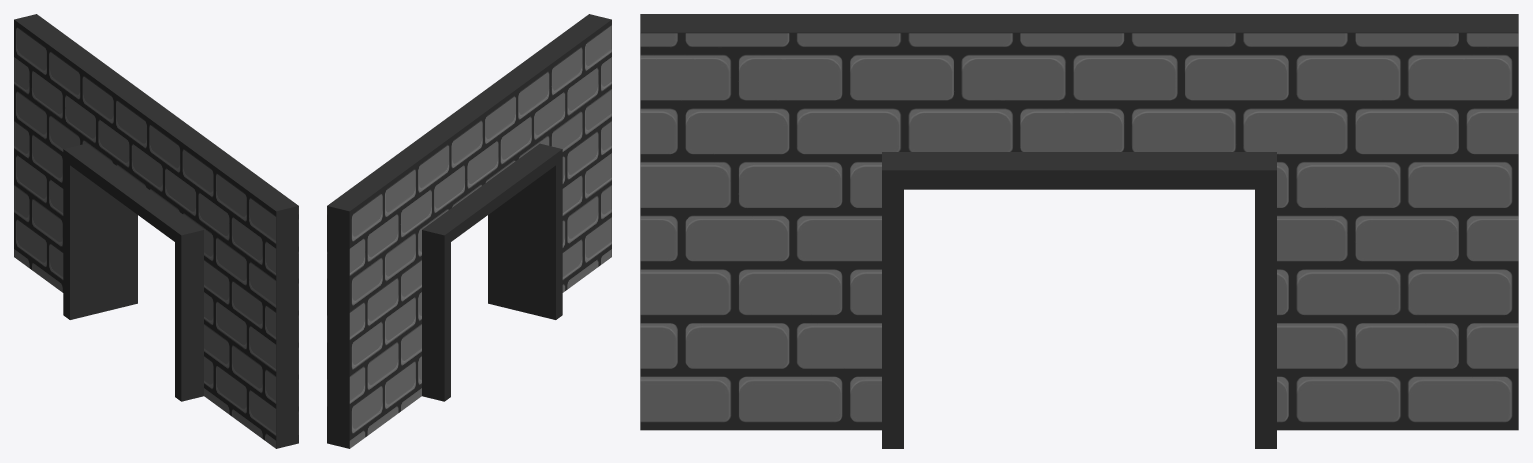
The model's file is WallDoor.fbx.
The picture shows the model from 3 angles, left to right: view 1: azimuth 30°, elevation 25°; view 2: azimuth 150°, elevation 25°; view 3: azimuth 270°, elevation 25°; orthographic projection. The views are drawn at different scales.
Parts seen in each view (by area): view 1: Cube, Cube.002; view 2: Cube, Cube.002; view 3: Cube, Cube.002.
Boxes of the visible parts, left/top/right/bottom form: Cube: left=14, top=14, right=298, bottom=448; Cube.002: left=63, top=143, right=203, bottom=401; Cube: left=327, top=14, right=611, bottom=448; Cube.002: left=422, top=143, right=562, bottom=401; Cube: left=640, top=14, right=1518, bottom=430; Cube.002: left=882, top=152, right=1276, bottom=448.
Bounding box in the file's own units: 600 × 2000 × 4000.
2 materials, 2 textured.
